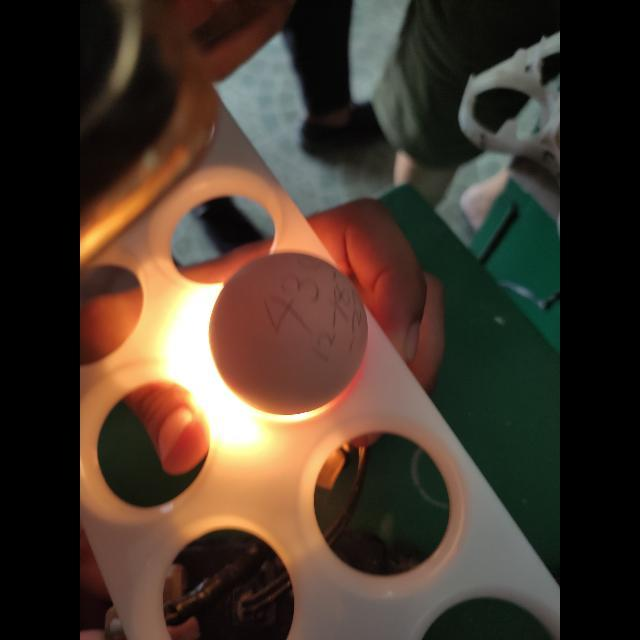Fertile: (206, 252, 370, 418)
